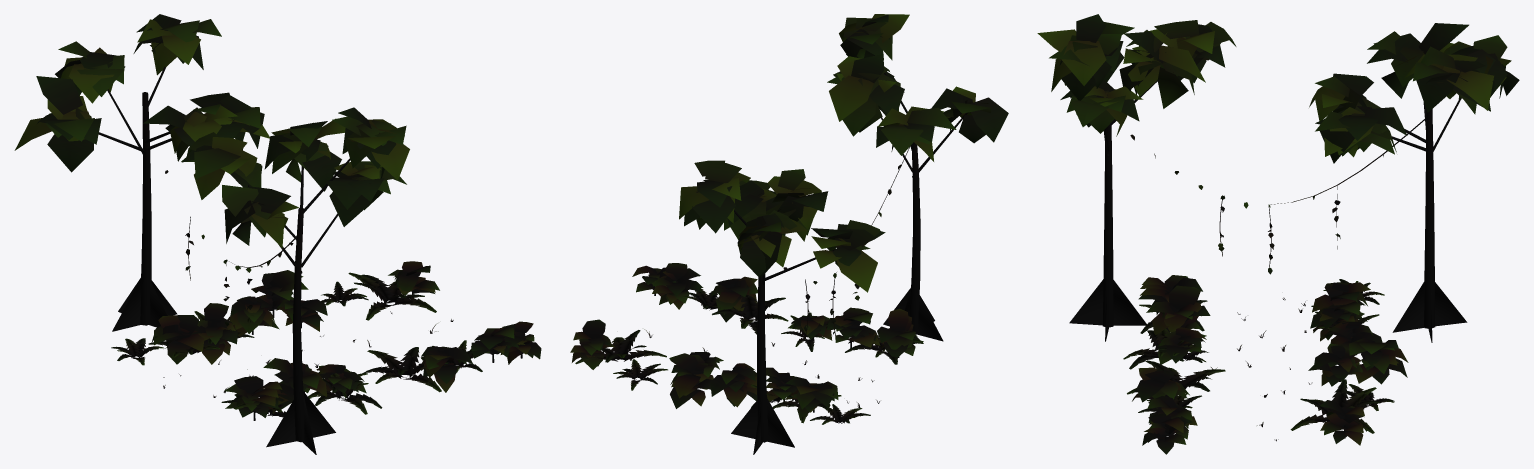
File: patch_trail.glb
3 views of the same model, side by side, from view 1: azimuth 30°, elevation 25°; view 2: azimuth 150°, elevation 25°; view 3: azimuth 270°, elevation 25° (orthographic). The views are drawn at different scales.
Parts seen in each view (by area): view 1: patch_trail; view 2: patch_trail; view 3: patch_trail.
Part boxes in pixels (box(x1,y1,x2,y2)): patch_trail: box(14, 14, 541, 454); patch_trail: box(570, 14, 1008, 454); patch_trail: box(1037, 14, 1519, 454).
Bounding box in the file's own units: 14.58 × 11.85 × 15.66.
Materials: 1 (1 with a texture image).
